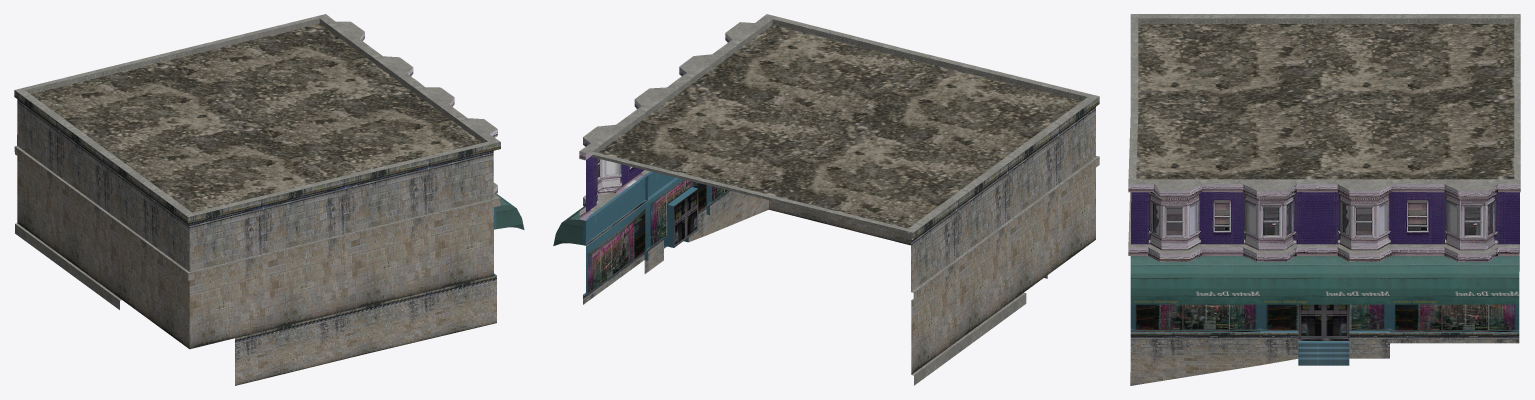
File: lowqueens2_sfs.obj
3 renders of one model, left to right at view 1: azimuth 30°, elevation 25°; view 2: azimuth 150°, elevation 25°; view 3: azimuth 270°, elevation 25°, orthographic. The views are drawn at different scales.
Visible parts, largest first — view 1: lowqueens2_SFS; view 2: lowqueens2_SFS; view 3: lowqueens2_SFS.
Boxes of the visible parts, x1=… form: lowqueens2_SFS: x1=14, y1=14, x2=524, y2=385; lowqueens2_SFS: x1=553, y1=14, x2=1099, y2=385; lowqueens2_SFS: x1=1128, y1=14, x2=1520, y2=385.
Bounding box in the file's own units: 22.7 × 11.68 × 20.45.
Materials: 7 (7 with a texture image).
